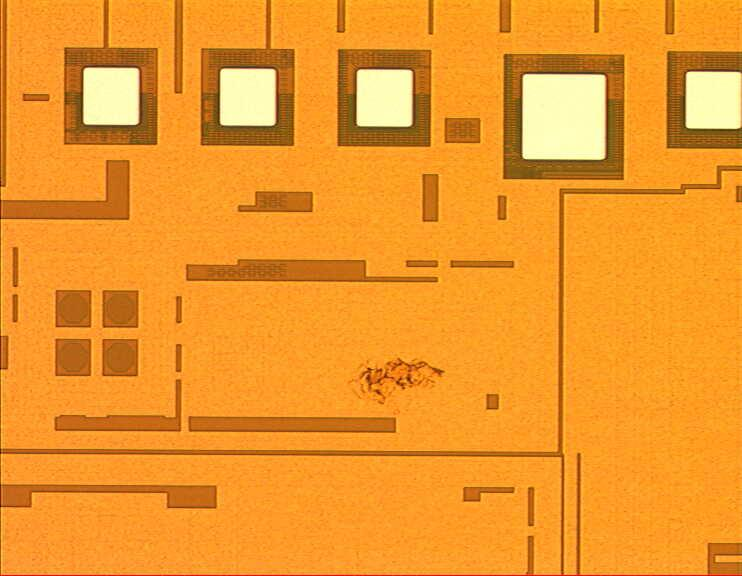PIQ PARTICLE: (347, 353, 447, 414)
